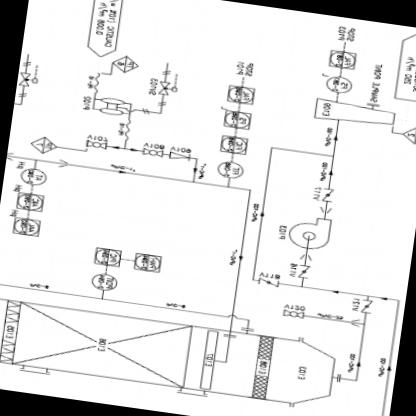LMI: (86, 272, 123, 292), (214, 160, 246, 180), (18, 167, 48, 187), (324, 74, 354, 94)
TAG: (130, 250, 166, 276), (9, 216, 43, 240), (91, 242, 122, 268), (221, 108, 253, 130), (224, 84, 256, 106), (216, 134, 248, 155), (14, 191, 44, 212), (326, 49, 356, 69)
